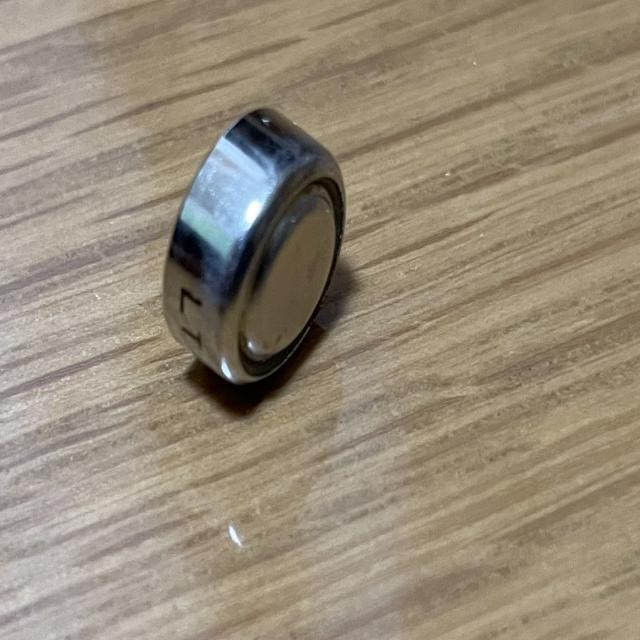COIN: (164, 106, 346, 390)
